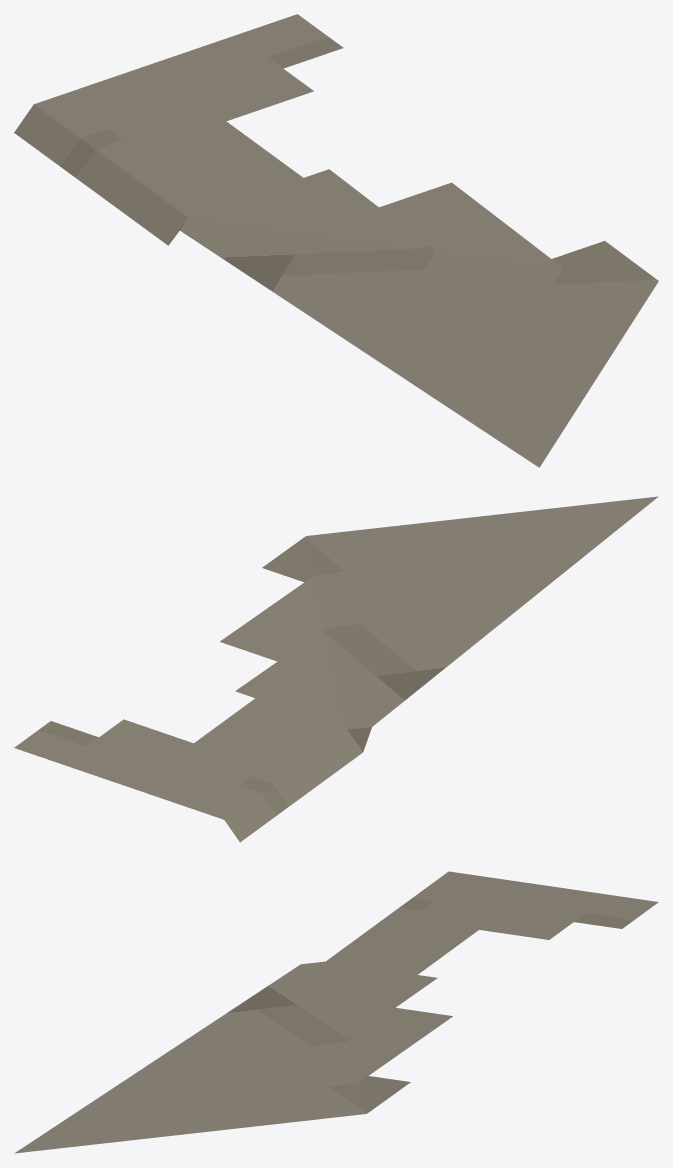
The picture shows the model from 3 angles, top to bottom: view 1: azimuth 30°, elevation 25°; view 2: azimuth 150°, elevation 25°; view 3: azimuth 330°, elevation 25°; orthographic projection. The views are drawn at different scales.
Size of the model in its own units: 0.2236 by 0.0373 by 0.7178.
Materials: 1 (1 with a texture image).
